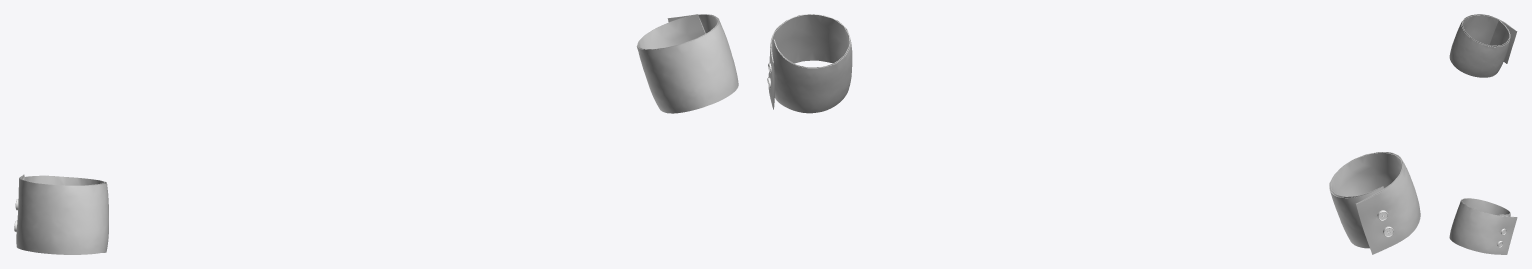
Rendered from two-buttons-cuff.glb.
3 views of the same model, side by side, from view 1: azimuth 30°, elevation 25°; view 2: azimuth 150°, elevation 25°; view 3: azimuth 270°, elevation 25° (orthographic). The views are drawn at different scales.
Parts seen in each view (by area): view 1: Cuffs_1_Node, Cuffs_2_Node, Cuffs_5_Node, Cuffs_4_Node; view 2: Cuffs_1_Node, Cuffs_2_Node, Cuffs_5_Node, Cuffs_4_Node; view 3: Cuffs_2_Node, Cuffs_1_Node, Cuffs_4_Node, Cuffs_5_Node.
Boxes of the visible parts, box(x1,y1,x2,y2) form: Cuffs_1_Node: box(16, 176, 108, 254); Cuffs_2_Node: box(636, 14, 738, 113); Cuffs_5_Node: box(638, 14, 718, 49); Cuffs_4_Node: box(20, 174, 104, 254); Cuffs_1_Node: box(1329, 152, 1420, 254); Cuffs_2_Node: box(768, 14, 852, 113); Cuffs_5_Node: box(771, 14, 849, 106); Cuffs_4_Node: box(1331, 152, 1402, 244); Cuffs_2_Node: box(1449, 198, 1517, 254); Cuffs_1_Node: box(1449, 14, 1515, 77); Cuffs_4_Node: box(1462, 15, 1517, 63); Cuffs_5_Node: box(1461, 198, 1516, 217).
Size of the model in its own units: 0.7037 by 0.0818 by 0.0995.
Materials: 8 (6 with a texture image).
